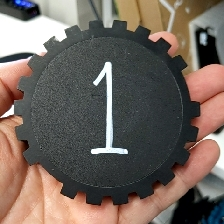gear: (12, 18, 202, 207)
missing: (22, 145, 80, 200), (171, 53, 202, 119)
